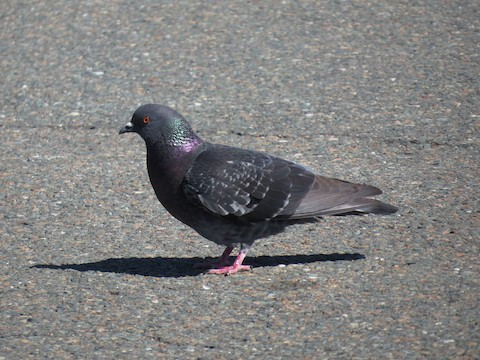pigeon: (114, 92, 410, 282)
